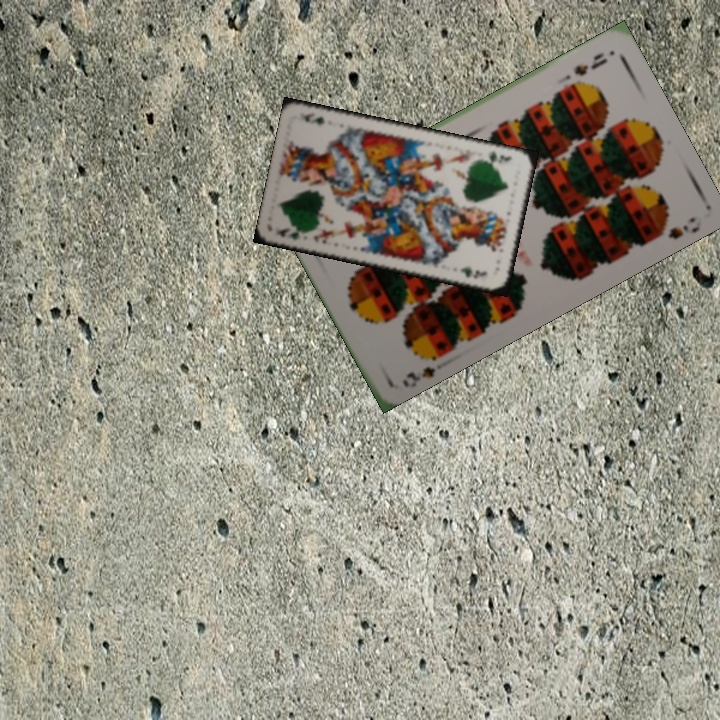GK: (273, 224, 311, 243), (479, 146, 515, 166)
S9: (398, 345, 447, 390), (570, 48, 610, 79)
